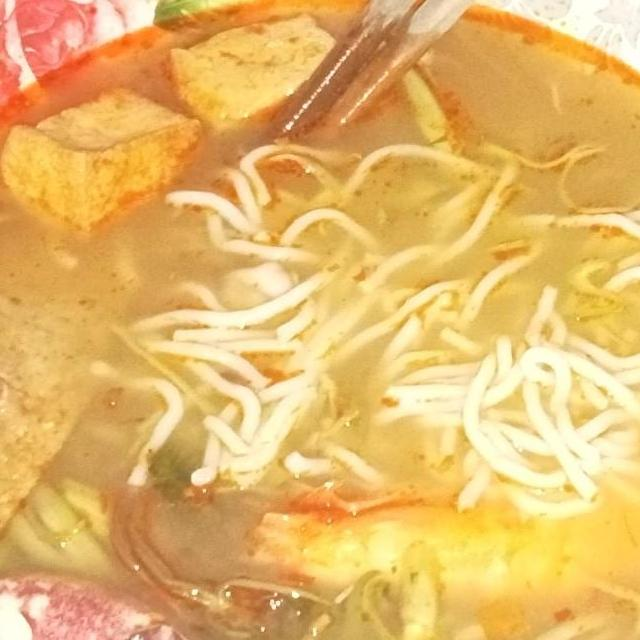bun: (121, 121, 640, 532)
dau hu: (0, 77, 207, 237), (166, 7, 342, 138)
muc: (0, 567, 249, 640)
